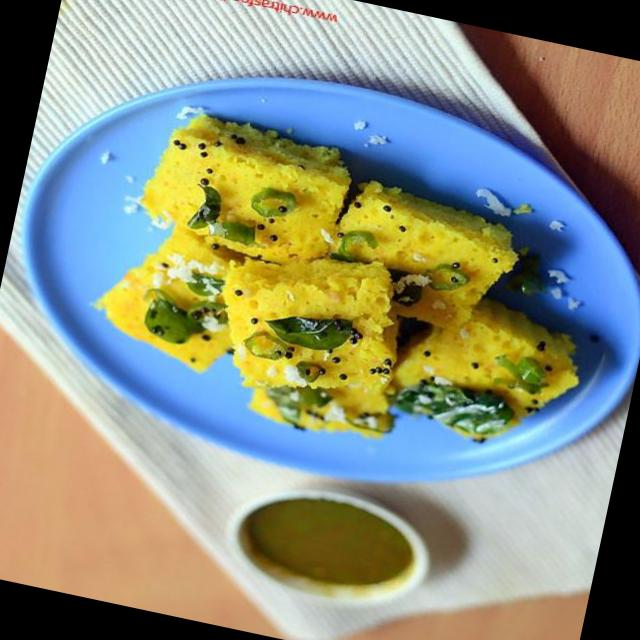dhokla: (134, 136, 584, 461)
